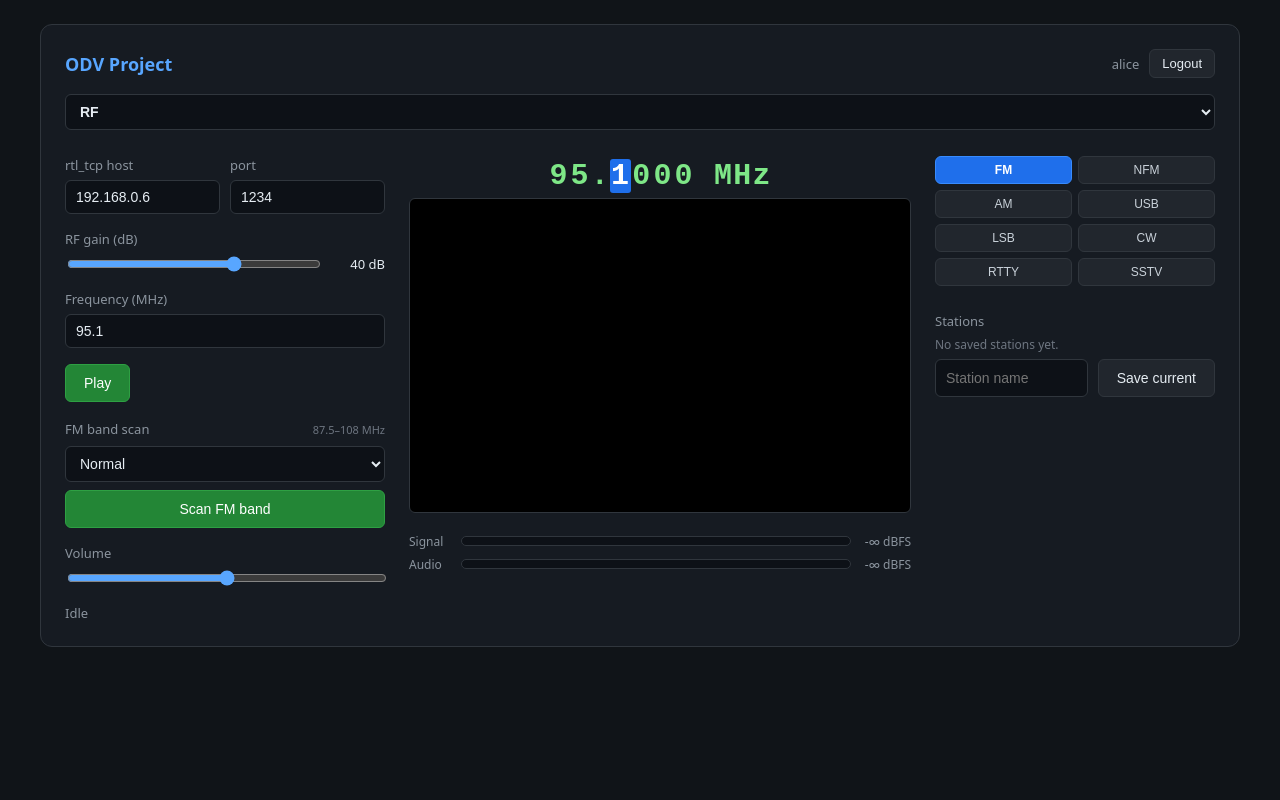
Test: App › uses the real-time spectrum scope in HF (AM) mode too
Expected: the text "Stations" is shown, left=935, top=312, right=984, bottom=330
What coordinates should you click on to do the following:
click the button "AM"
I would click on:
 (1004, 204)
Its box is left=935, top=190, right=1072, bottom=218.
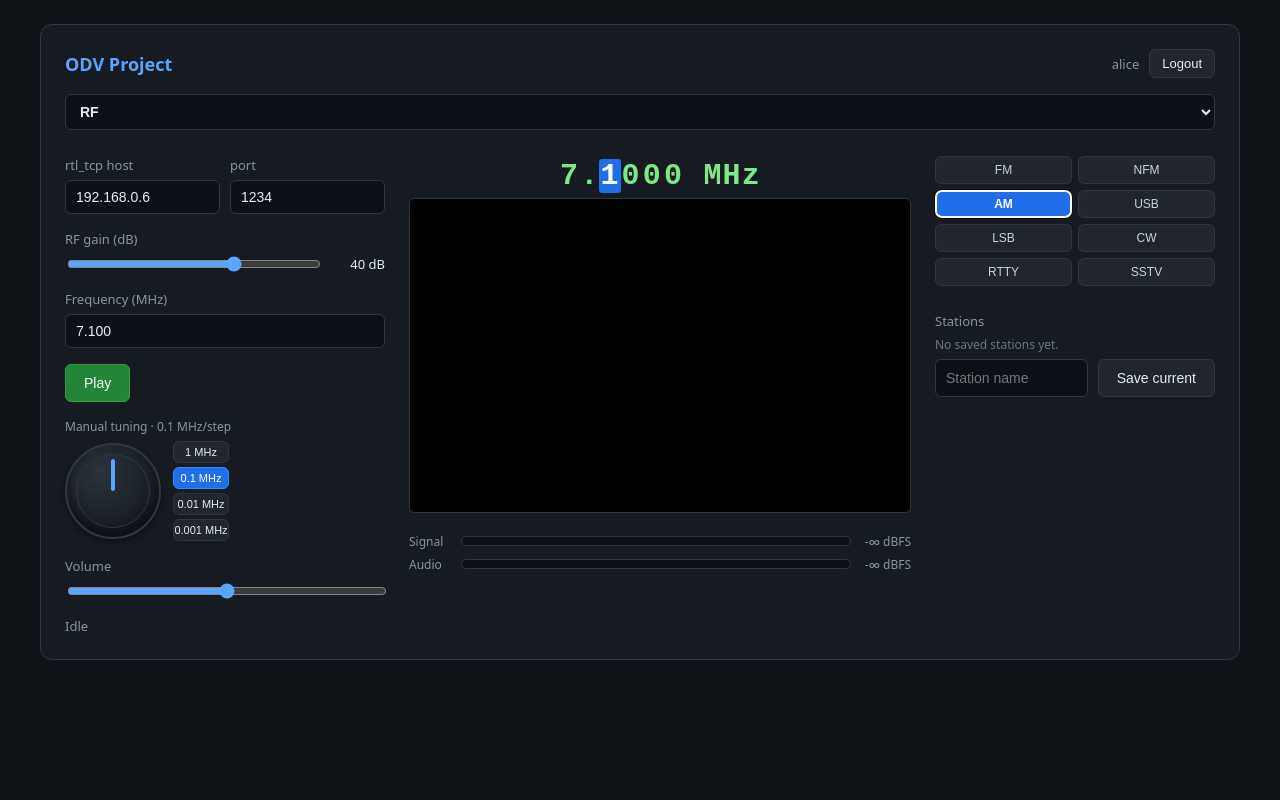
Expected: the drawing is shown, left=409, top=198, right=911, bottom=512
Result: the text "Manual tuning · 0.1 MHz/step" is shown at left=65, top=418, right=231, bottom=435
